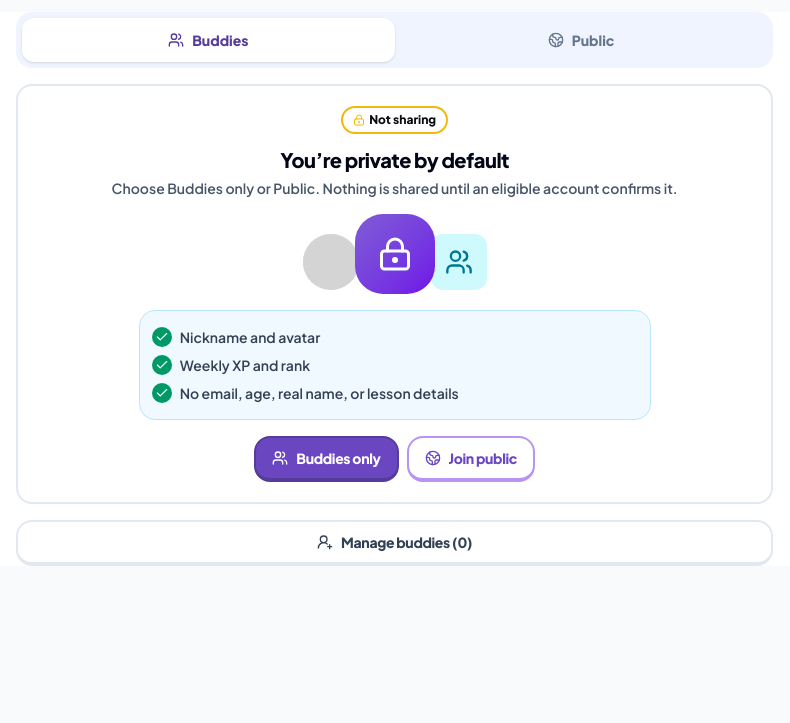
Test: Buddy Leaderboard page › opens buddy management as a dedicated mobile view
What coordinates should you click on to do the following:
click the button "Manage buddies (0)"
I would click on:
 (395, 543)
Its box is [16,520,773,566].
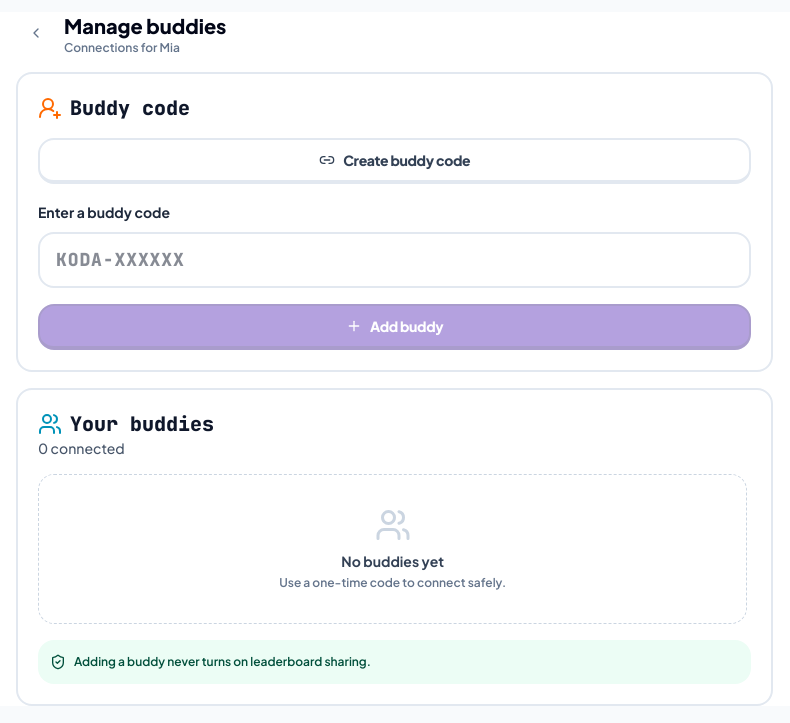
Expected: the heading "Manage buddies" is shown, [64,12,226,40]
Expected: the button named "Back to leaderboard" is shown
What coordinates should you click on to do the following:
click the button named "Back to leaderboard"
I would click on:
 (36, 34)
Its box is [16,13,56,55].
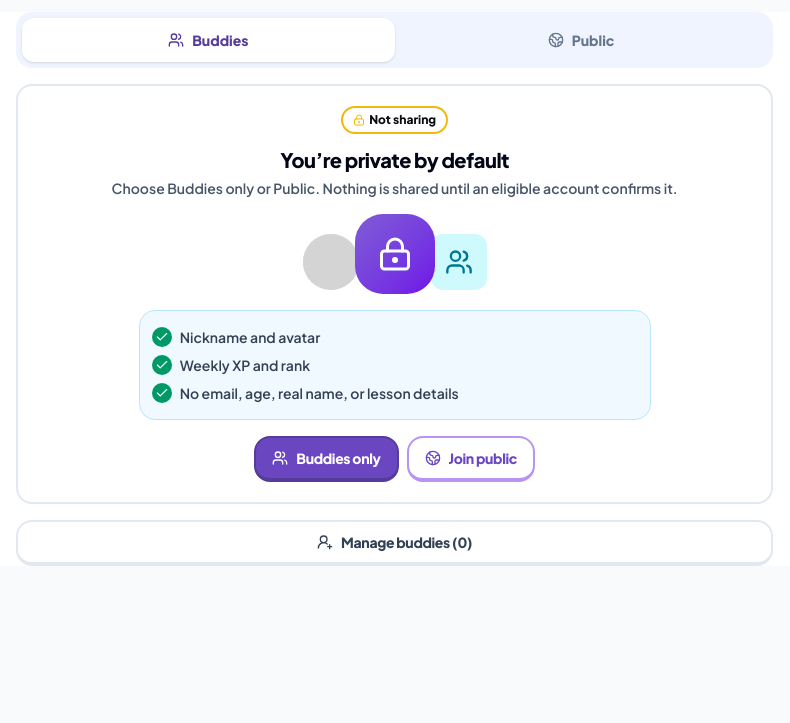
Expected: the tab "Buddies" is shown, [22,18,395,62]
